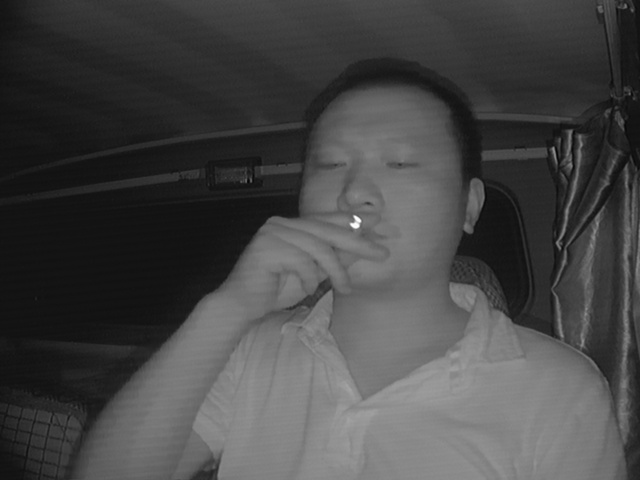hand: (248, 202, 387, 311)
